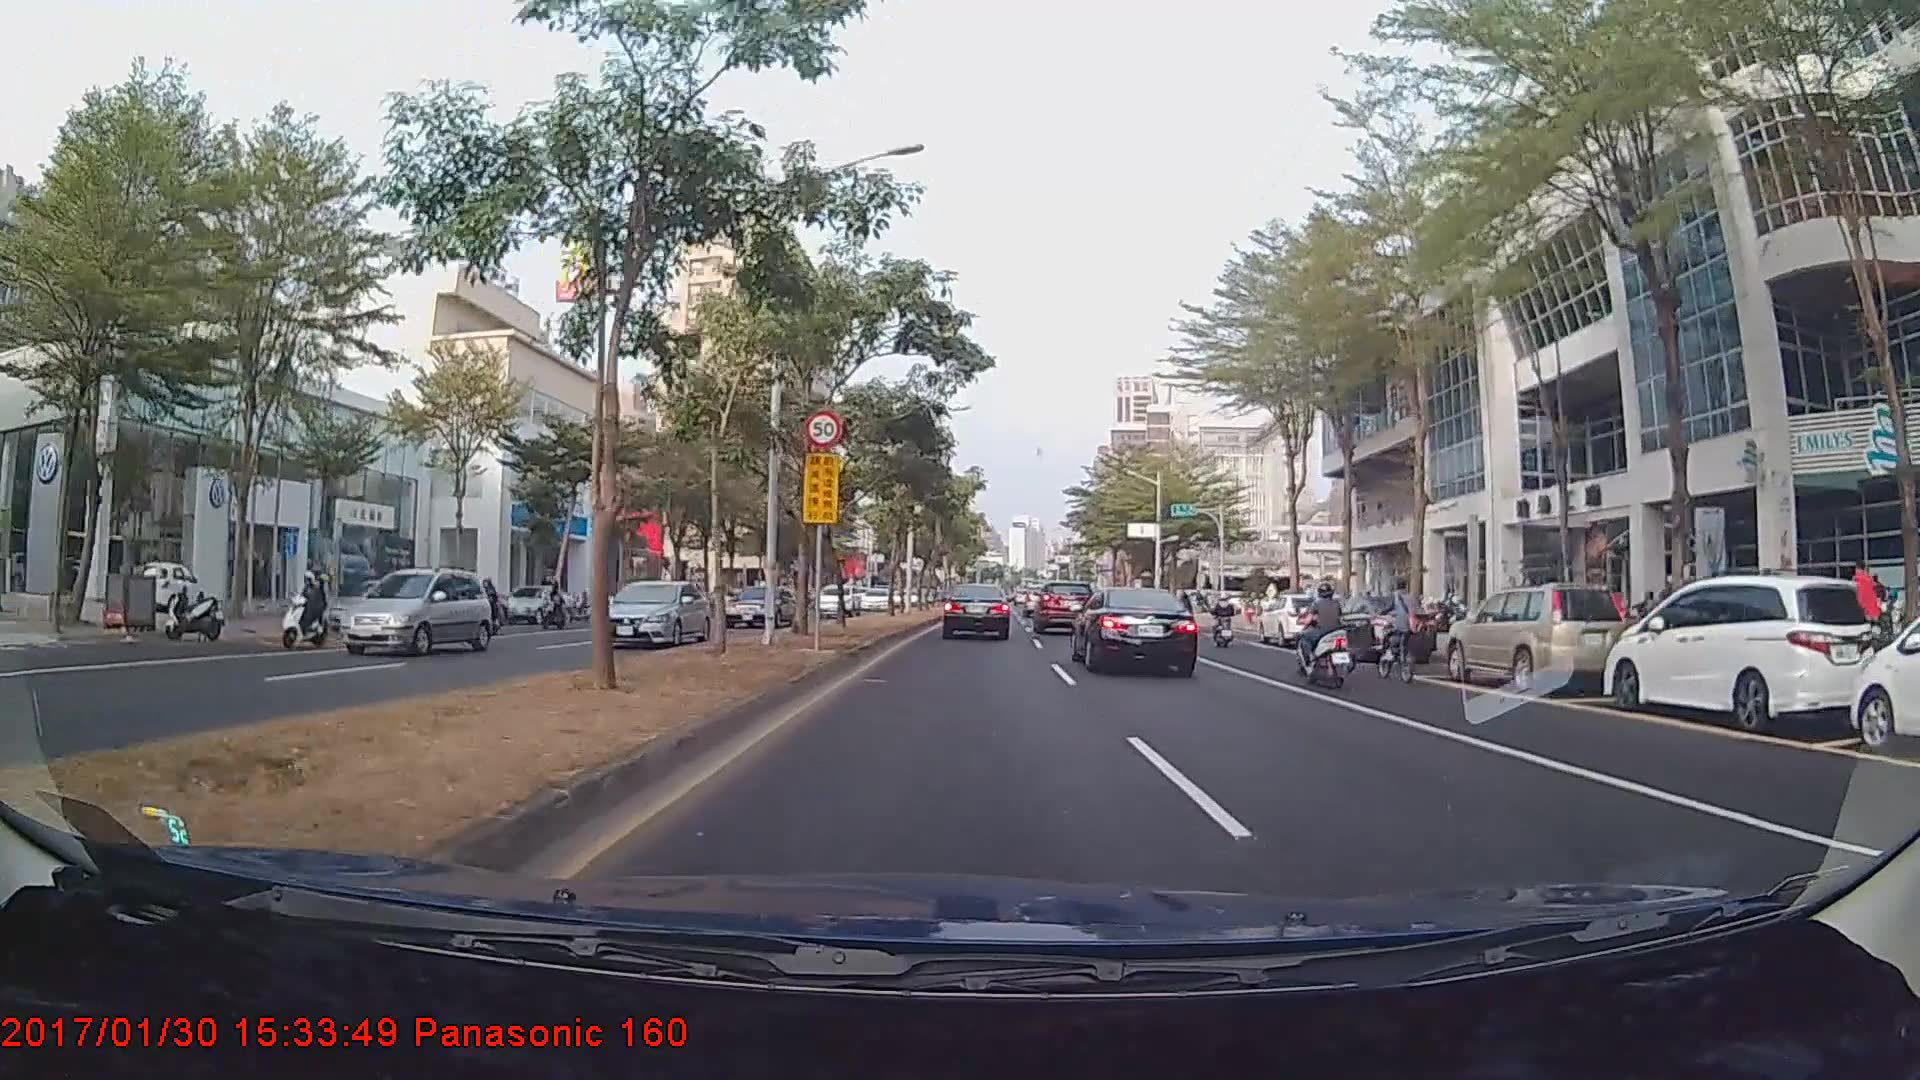rider: (1286, 581, 1363, 694), (1375, 578, 1427, 686), (277, 563, 331, 654), (1296, 590, 1347, 677), (1205, 594, 1240, 650)
vehicle: (1600, 570, 1874, 740), (1445, 587, 1627, 694), (335, 563, 495, 659), (1848, 584, 1920, 756), (1073, 582, 1201, 676), (1315, 596, 1434, 666), (601, 581, 713, 652), (1258, 591, 1340, 648), (941, 582, 1012, 641), (720, 584, 794, 629), (1032, 580, 1088, 633), (498, 586, 566, 624), (814, 578, 860, 618)
